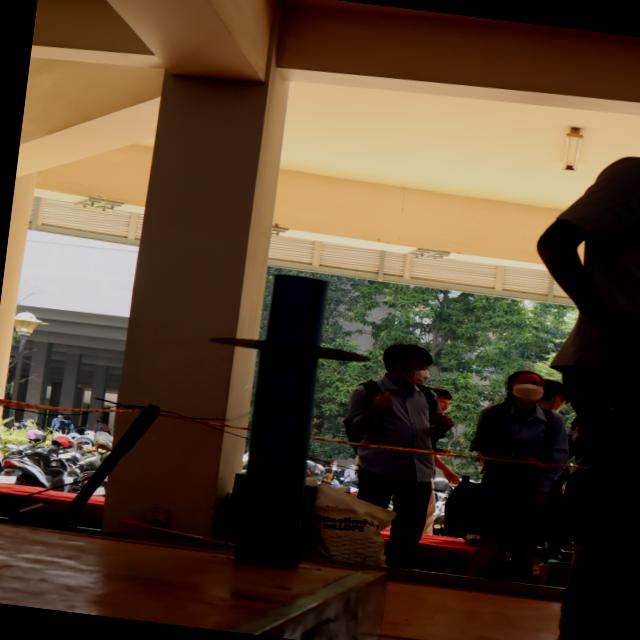pole: (196, 257, 380, 401)
